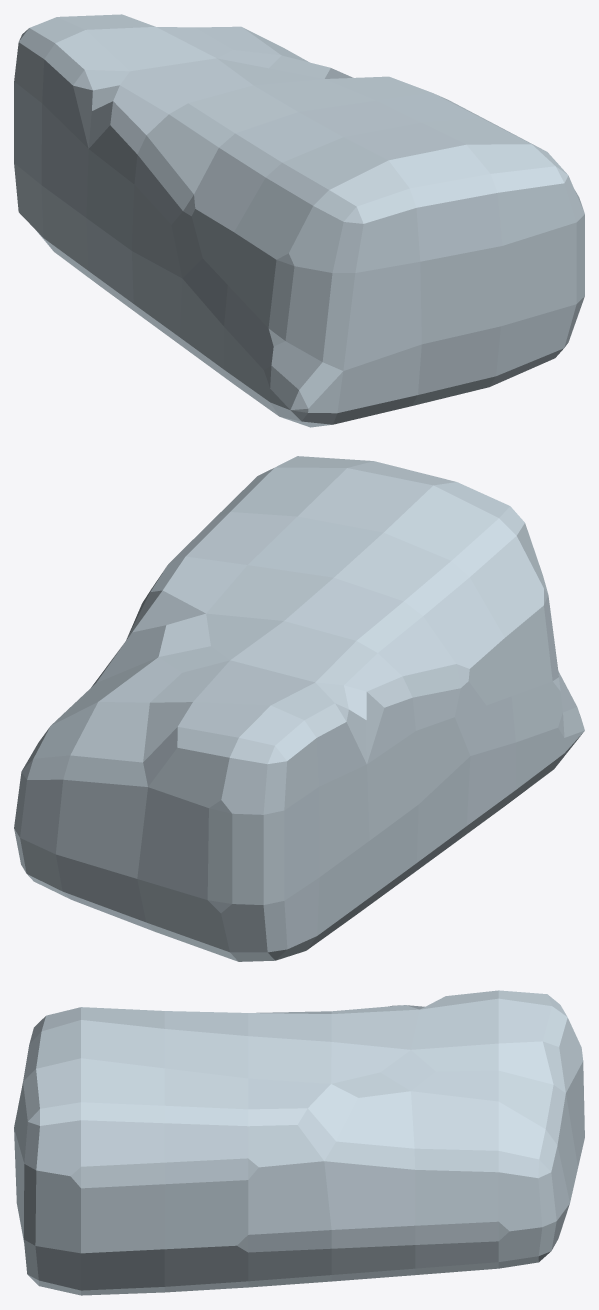
File: big_rock.glb
3 renders of one model, top to bottom at view 1: azimuth 30°, elevation 25°; view 2: azimuth 150°, elevation 25°; view 3: azimuth 270°, elevation 25°, orthographic. The views are drawn at different scales.
Parts seen in each view (by area): view 1: Cube; view 2: Cube; view 3: Cube.
Boxes of the visible parts, <box> form: Cube: <box>14,14,584,427</box>; Cube: <box>14,456,584,961</box>; Cube: <box>14,990,584,1295</box>.
Size of the model in its own units: 2.66 by 2.02 by 4.55.
